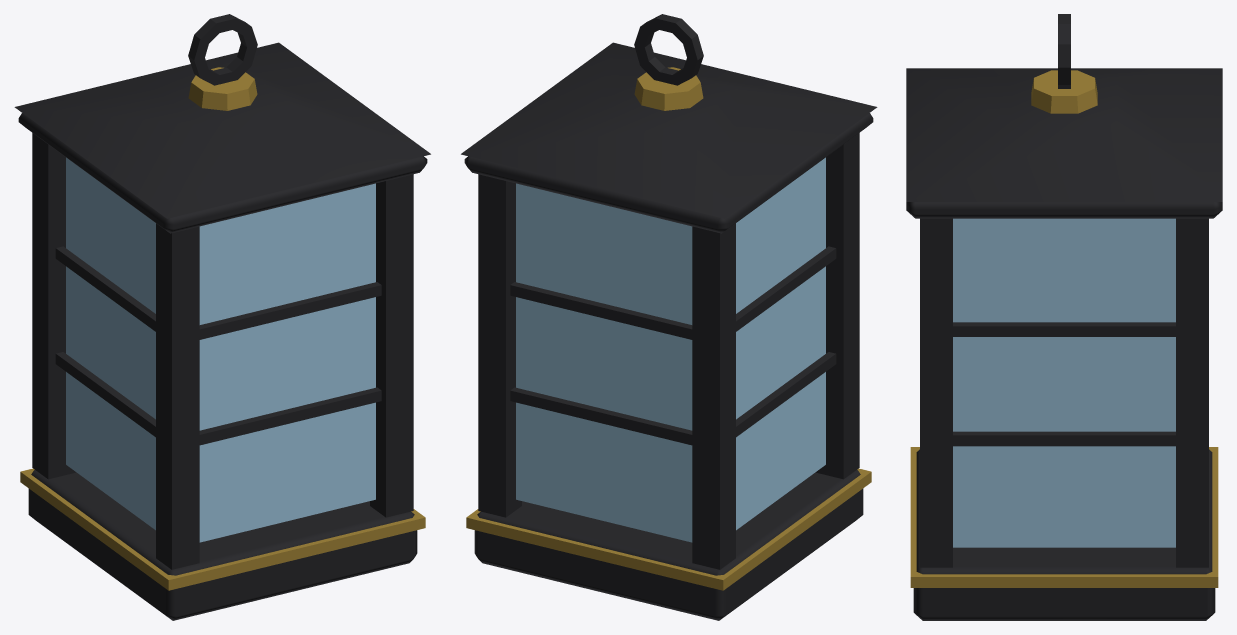
The model's file is lantern.glb.
The picture shows the model from 3 angles, left to right: view 1: azimuth 30°, elevation 25°; view 2: azimuth 150°, elevation 25°; view 3: azimuth 270°, elevation 25°; orthographic projection. The views are drawn at different scales.
Visible parts, largest first — view 1: Lantern; view 2: Lantern; view 3: Lantern.
Part boxes in pixels (box(x1,y1,x2,y2)): Lantern: box(14, 14, 430, 620); Lantern: box(461, 14, 877, 620); Lantern: box(906, 14, 1222, 620).
Size of the model in its own units: 0.21 by 0.397 by 0.21.
